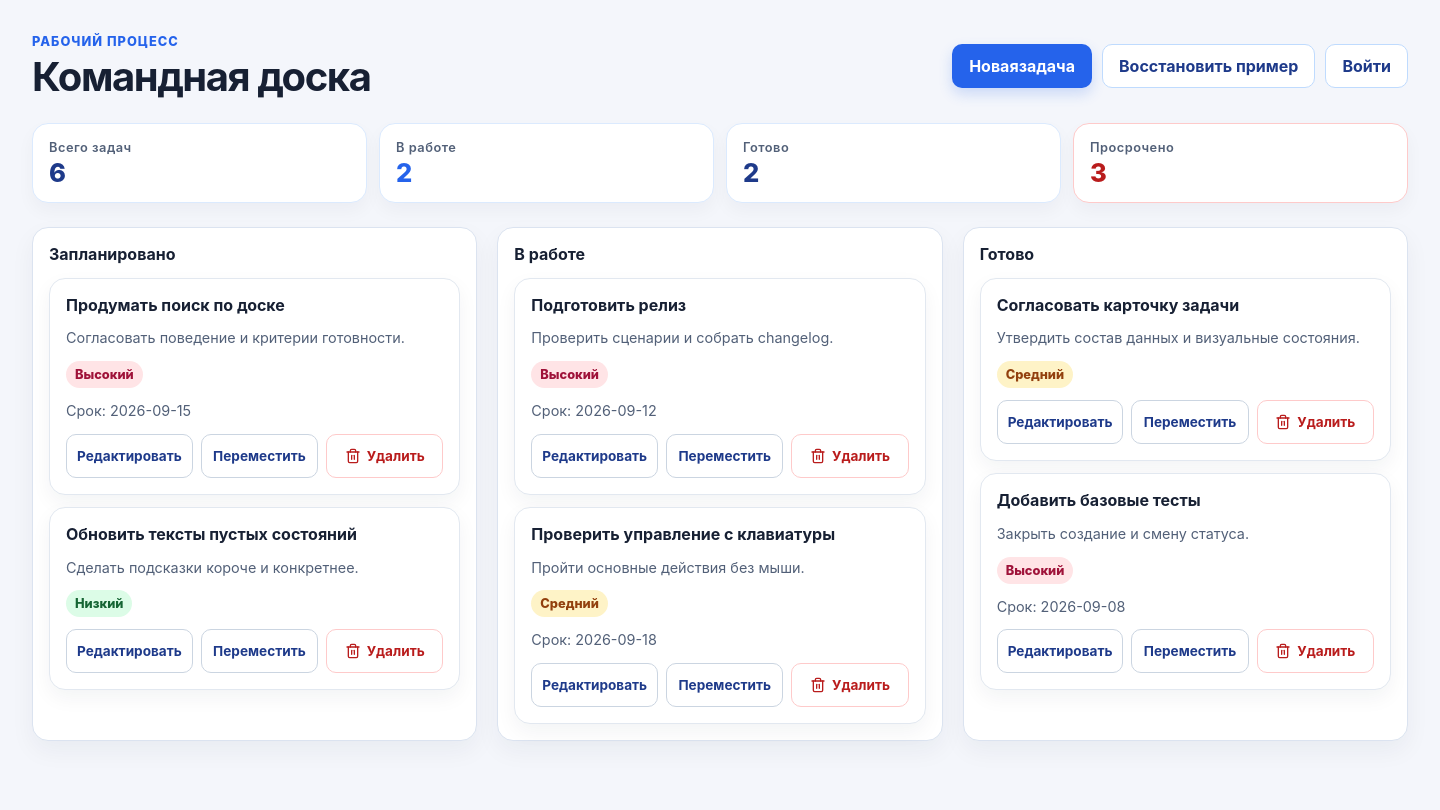
App › reports board totals from persisted data
Check: the element named "Всего задач: 6" is shown, box [32, 123, 367, 202]
Check: the element named "В работе: 2" is shown, box [379, 123, 714, 202]
Click the button with aria-label "Переместить: Подготовить релиз": (725,456) [666, 434, 783, 478]
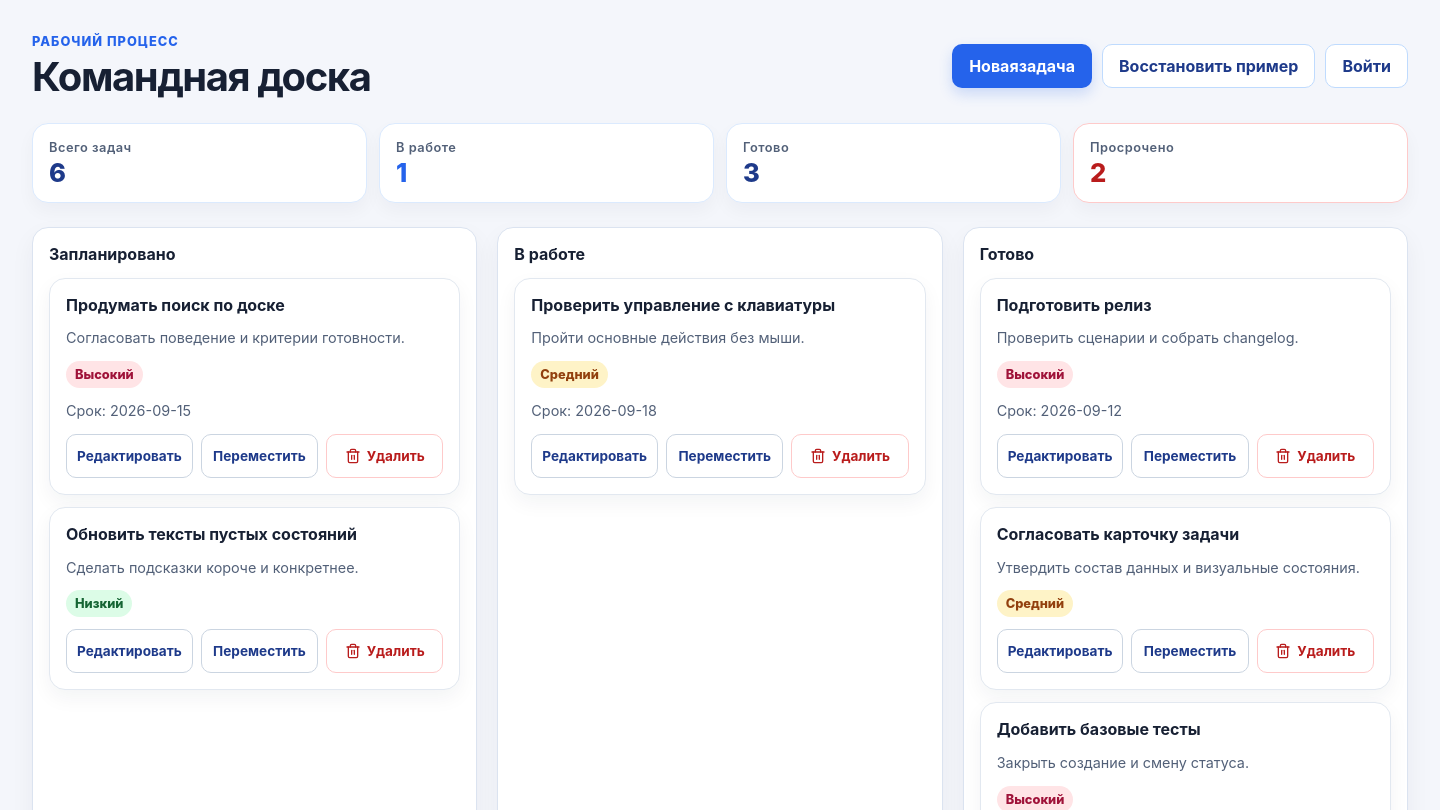
Check: the element named "В работе: 1" is shown, box [379, 123, 714, 202]
Check: the element named "Готово: 3" is shown, box [726, 123, 1061, 202]
Check: the element named "Просрочено: 2" is shown, box [1073, 123, 1408, 202]
